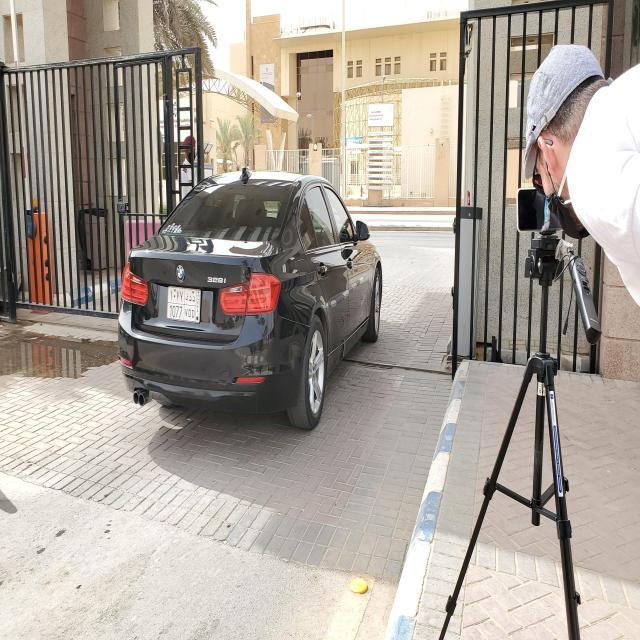license_plate: (167, 285, 200, 324)
